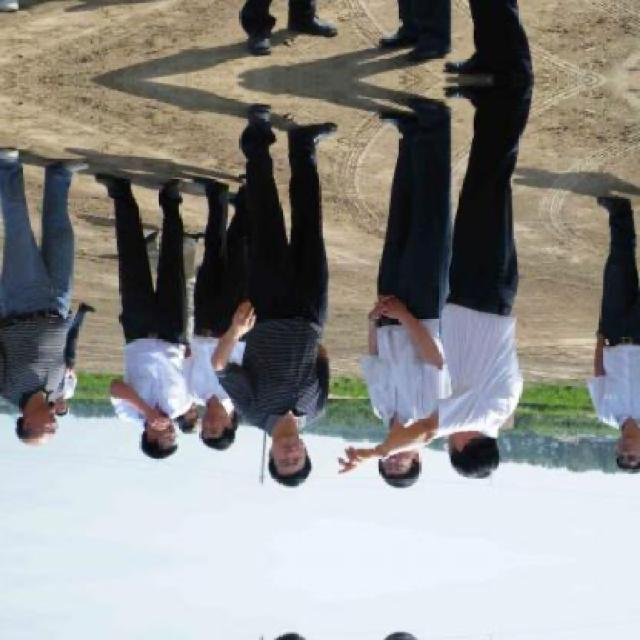con casco: (224, 408, 322, 501)
sin casco: (0, 379, 136, 468), (423, 401, 539, 495), (322, 410, 441, 493), (129, 381, 201, 474), (189, 403, 270, 447)
